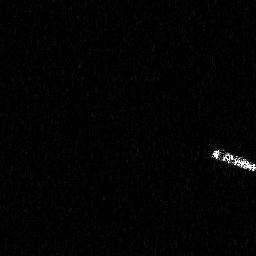ship: (209, 146, 256, 175)
